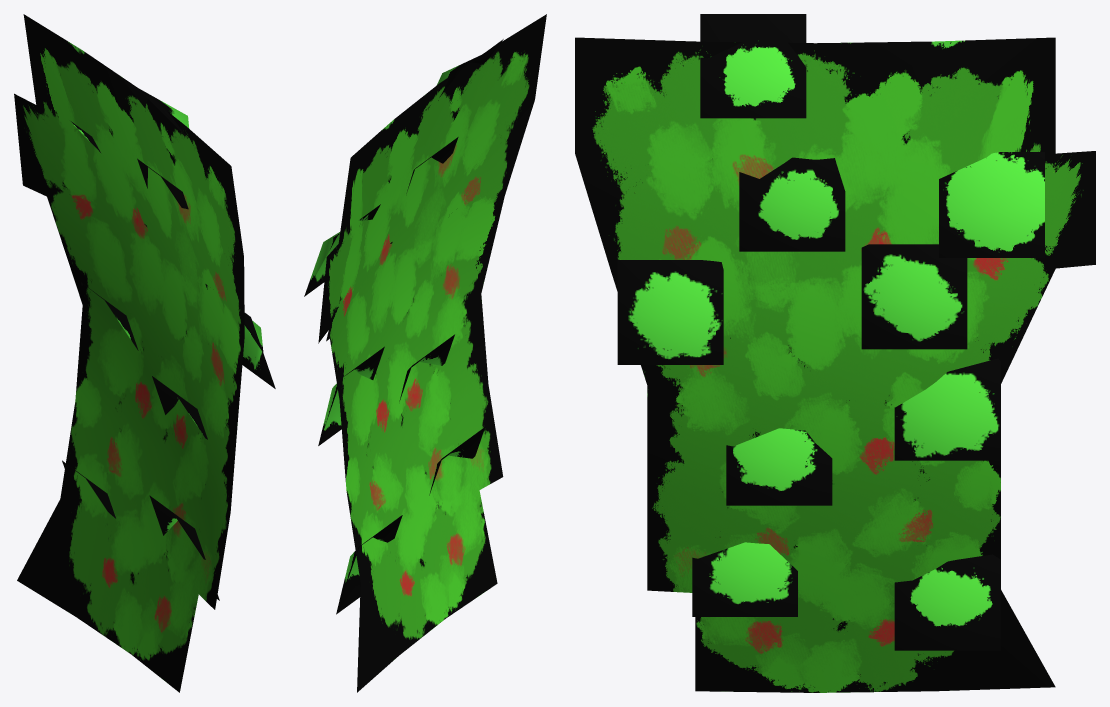
File: vine02.fbx
3 renders of one model, left to right at view 1: azimuth 30°, elevation 25°; view 2: azimuth 150°, elevation 25°; view 3: azimuth 270°, elevation 25°, orthographic. The views are drawn at different scales.
Visible parts, largest first — view 1: vine02; view 2: vine02; view 3: vine02.
Boxes of the visible parts, x1,y1,x2,y2 form: vine02: (14,14,275,692); vine02: (304,14,546,692); vine02: (575,14,1095,692).
Size of the model in its own units: 0.721 by 4.93 by 3.46.
